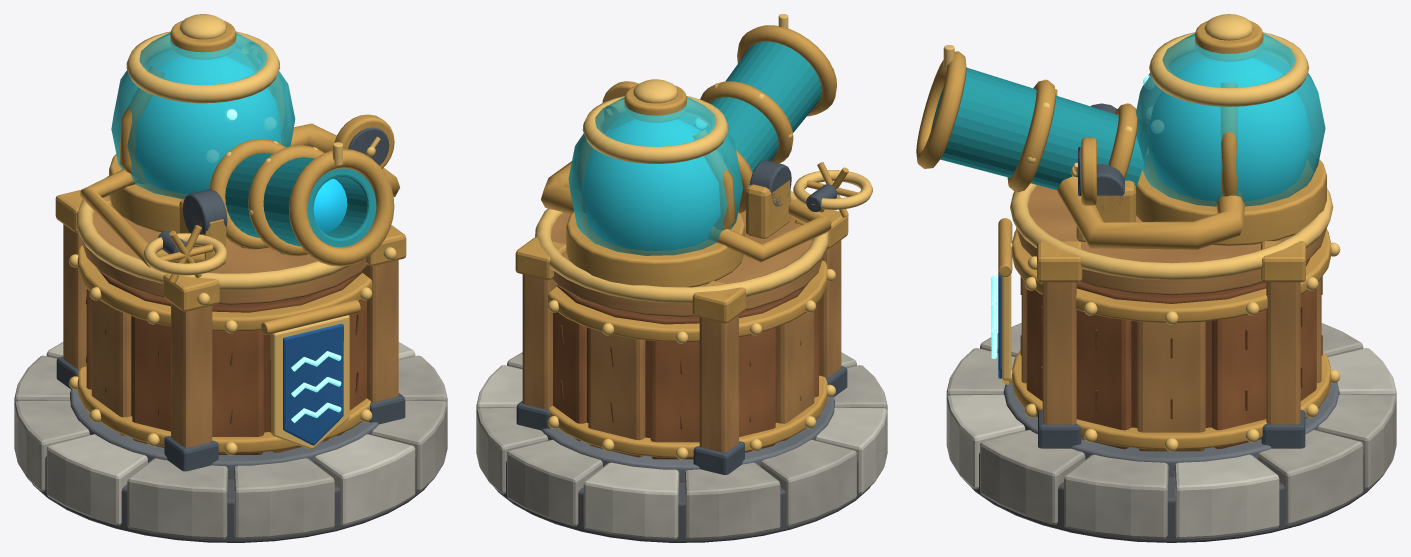
The model's file is water-cannon-crafted.glb.
3 views of the same model, side by side, from view 1: azimuth 30°, elevation 25°; view 2: azimuth 150°, elevation 25°; view 3: azimuth 270°, elevation 25° (orthographic). The views are drawn at different scales.
Visible parts, largest first — view 1: Reservoir / glass pressure tank, Reservoir / visible blue water, Foundation / limestone / block 09.002, Barrel / turquoise enamel cannon, Foundation / limestone / block 08.002, Foundation / limestone / block 07.002, Foundation / limestone / block 10.002, Deck / oak turntable.001, Timber / square corner post.004, Heraldry / heavy cloth.002, Timber / vertical oak stave 9.001, Barrel / broad bronze collar.002 (+39 smaller); view 2: Reservoir / glass pressure tank, Reservoir / visible blue water, Barrel / turquoise enamel cannon, Reservoir / bronze tank plinth, Foundation / limestone / block 04.002, Foundation / limestone / block 05.002, Timber / vertical oak stave 4.001, Foundation / limestone / block 06.002, Foundation / limestone / block 03.002, Timber / square corner post.005, Deck / turntable rim.001, Deck / oak turntable.001 (+33 smaller); view 3: Reservoir / glass pressure tank, Reservoir / visible blue water, Barrel / turquoise enamel cannon, Foundation / limestone / block 01.002, Timber / vertical oak stave 1.001, Foundation / limestone / block 12.002, Deck / oak turntable.001, Reservoir / bronze tank plinth, Foundation / limestone / block 02.002, Foundation / limestone / block 11.002, Timber / vertical oak stave 12.001, Timber / vertical oak stave 2.001 (+34 smaller).
Boxes of the visible parts, x1,y1,x2,y2 form: Reservoir / glass pressure tank: (111,32,295,199); Reservoir / visible blue water: (132,56,281,193); Foundation / limestone / block 09.002: (234,458,334,539); Barrel / turquoise enamel cannon: (225,153,376,247); Foundation / limestone / block 08.002: (127,458,227,539); Foundation / limestone / block 07.002: (46,434,147,525); Foundation / limestone / block 10.002: (314,434,415,525); Deck / oak turntable.001: (81,195,367,304); Timber / square corner post.004: (171,303,212,447); Heraldry / heavy cloth.002: (283,323,343,445); Timber / vertical oak stave 9.001: (212,330,263,454); Barrel / broad bronze collar.002: (289,149,394,266); Reservoir / glass pressure tank: (568,97,742,255); Reservoir / visible blue water: (581,119,722,250); Barrel / turquoise enamel cannon: (710,41,821,172); Reservoir / bronze tank plinth: (566,211,745,287); Foundation / limestone / block 04.002: (583,462,679,539); Foundation / limestone / block 05.002: (684,462,780,539); Timber / vertical oak stave 4.001: (588,328,645,457); Foundation / limestone / block 06.002: (760,439,856,526); Foundation / limestone / block 03.002: (507,439,602,526); Timber / square corner post.005: (699,315,738,452); Deck / turntable rim.001: (535,191,829,303); Deck / oak turntable.001: (551,210,823,316); Reservoir / glass pressure tank: (1136,33,1325,206); Reservoir / visible blue water: (1149,58,1310,200); Barrel / turquoise enamel cannon: (931,67,1149,189); Foundation / limestone / block 01.002: (1174,454,1279,538); Timber / vertical oak stave 1.001: (1137,321,1205,451); Foundation / limestone / block 12.002: (1064,454,1168,538); Deck / oak turntable.001: (1016,185,1326,295); Reservoir / bronze tank plinth: (1136,159,1326,245); Foundation / limestone / block 02.002: (1258,430,1363,524); Foundation / limestone / block 11.002: (980,430,1085,524); Timber / vertical oak stave 12.001: (1076,310,1131,449); Timber / vertical oak stave 2.001: (1212,310,1266,449).
Bounding box in the file's own units: 4.63 × 4.91 × 4.94.
15 materials, 9 textured.
